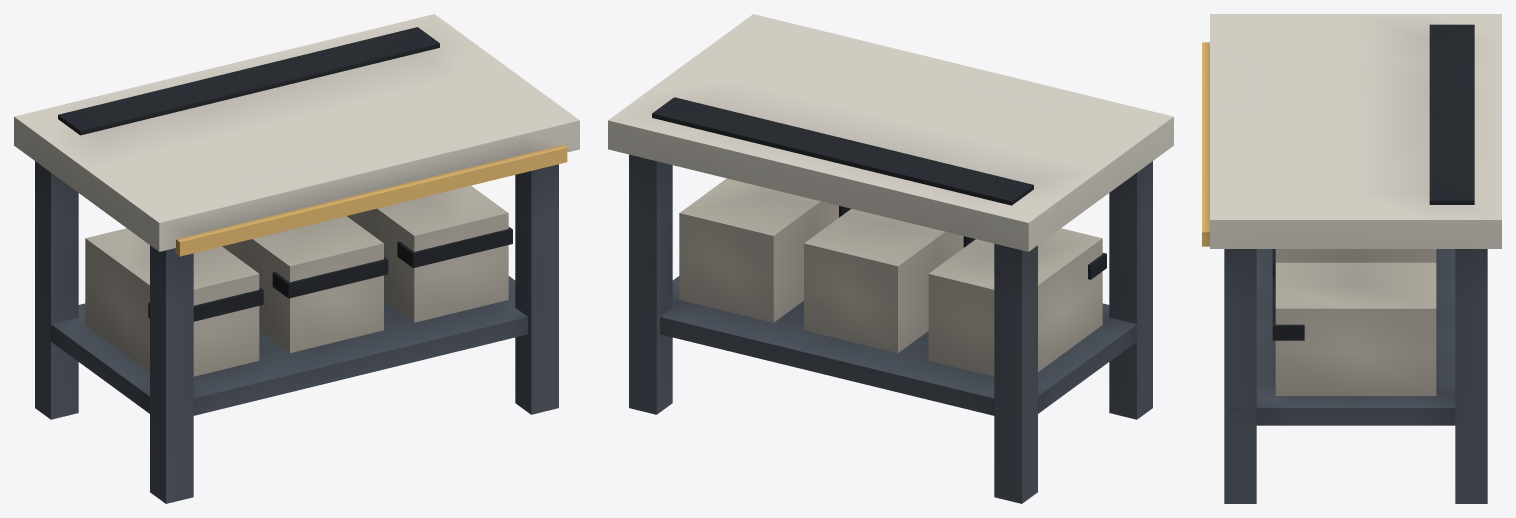
File: CK1_IntegrationBench.glb
3 views of the same model, side by side, from view 1: azimuth 30°, elevation 25°; view 2: azimuth 150°, elevation 25°; view 3: azimuth 270°, elevation 25° (orthographic).
Visible parts, largest first — view 1: CK1_IntegrationBench; view 2: CK1_IntegrationBench; view 3: CK1_IntegrationBench.
Boxes of the visible parts, x1,y1,x2,y2 form: CK1_IntegrationBench: [14, 14, 579, 503]; CK1_IntegrationBench: [608, 14, 1173, 503]; CK1_IntegrationBench: [1202, 14, 1501, 503].
Bounding box in the file's own units: 1.52 × 1.01 × 0.935.
